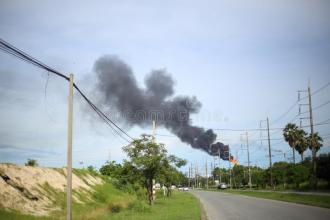smoke: (91, 56, 232, 161)
